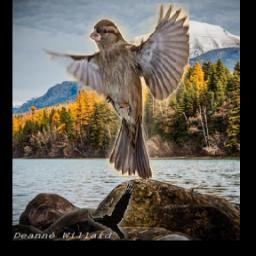Crow: (88, 182, 132, 239)
Sparrow: (33, 4, 190, 180)
